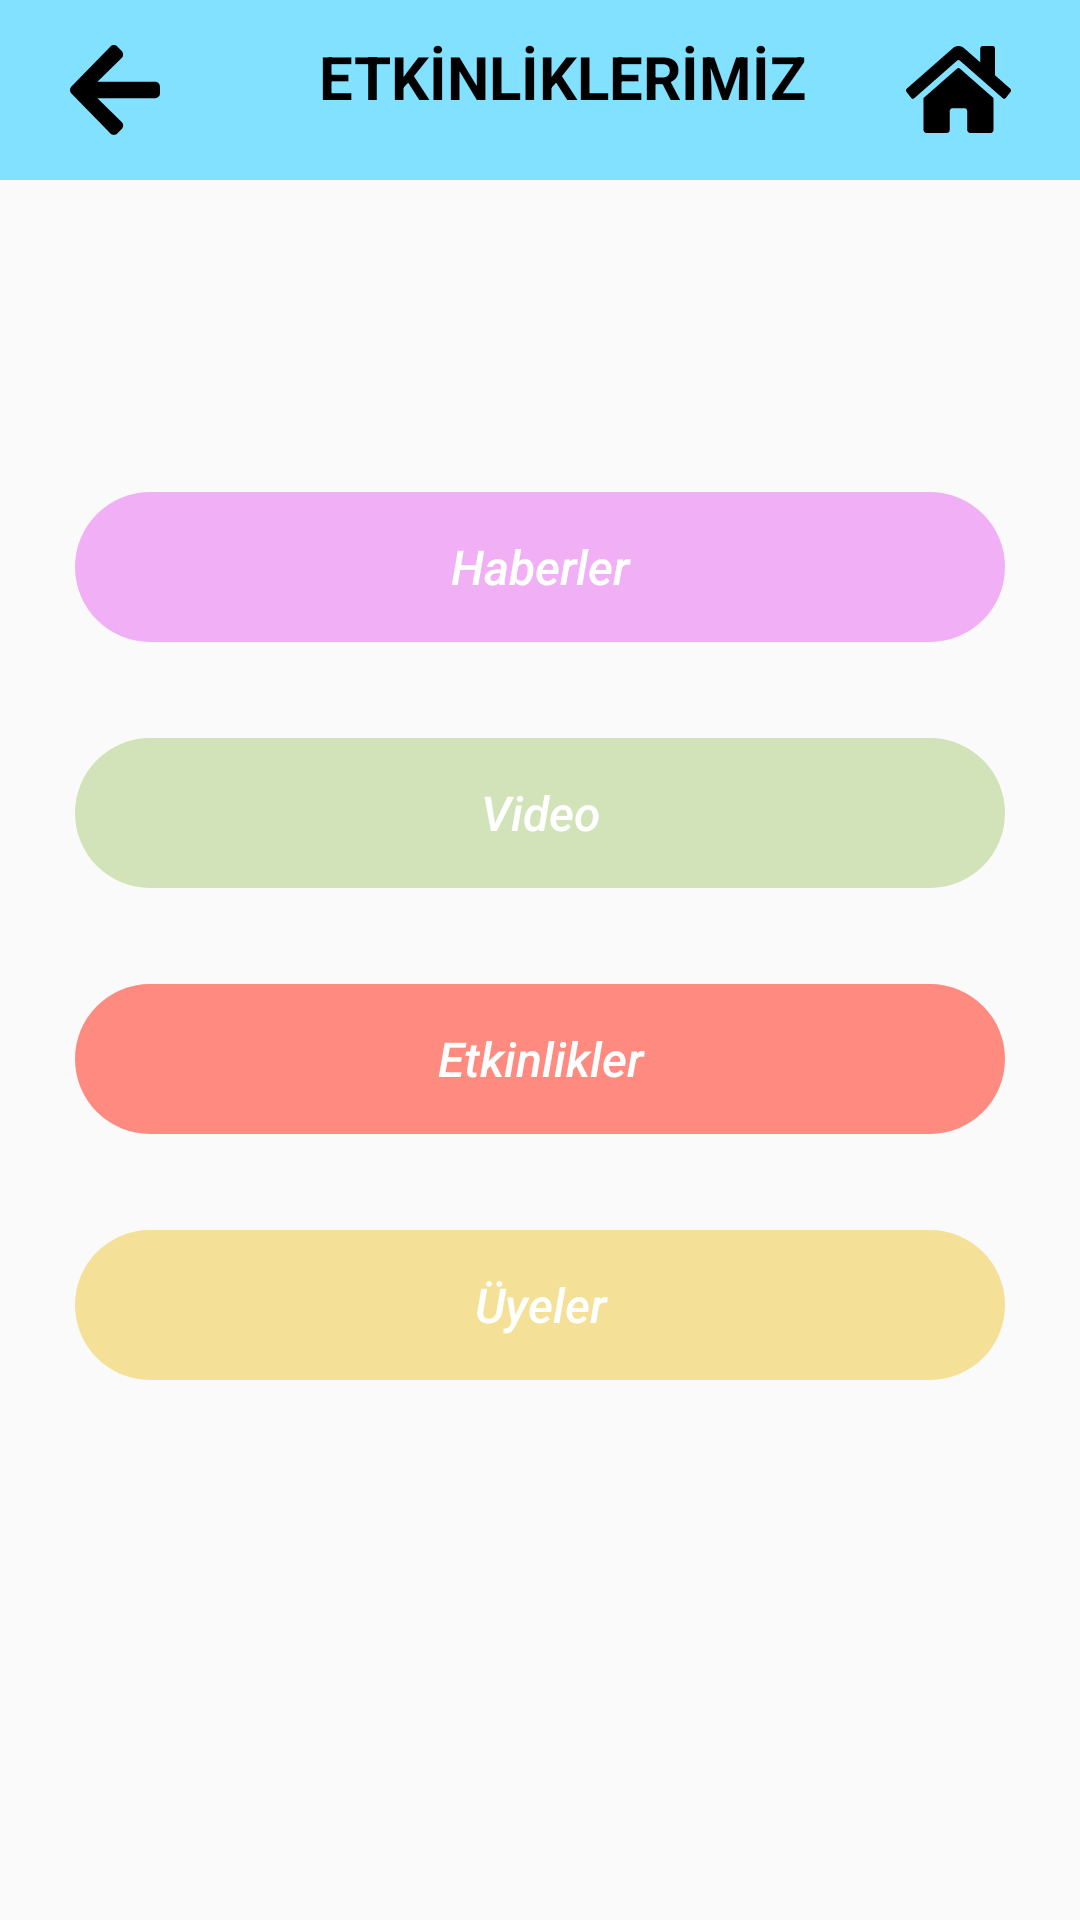

Screen size 1080px×1920px. Icon name, then its box in pixels as (x1, y1, x2, y2):
back: (70, 45, 160, 135)
home: (906, 46, 1011, 133)
